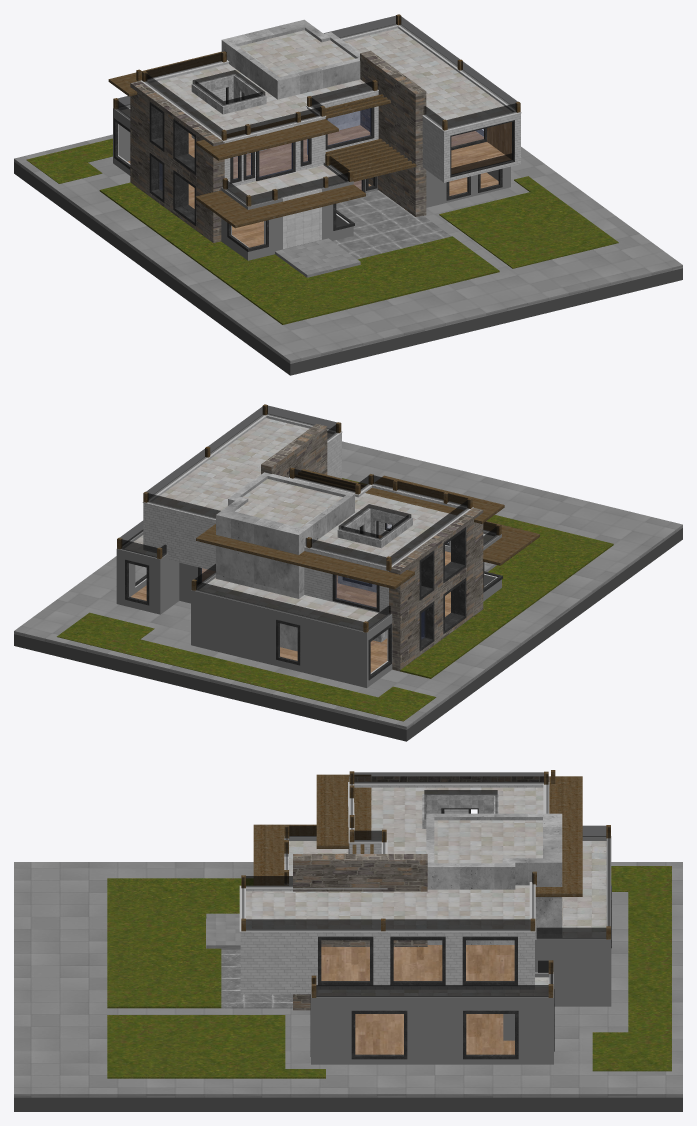
File: home1.glb
3 renders of one model, top to bottom at view 1: azimuth 30°, elevation 25°; view 2: azimuth 150°, elevation 25°; view 3: azimuth 270°, elevation 25°, orthographic. The views are drawn at different scales.
Parts seen in each view (by area): view 1: Line014_04 - Default_0; view 2: Line014_04 - Default_0; view 3: Line014_04 - Default_0.
Part boxes in pixels (box(x1,y1,x2,y2)): Line014_04 - Default_0: box(14, 14, 682, 375); Line014_04 - Default_0: box(14, 404, 682, 741); Line014_04 - Default_0: box(14, 770, 682, 1111).
Size of the model in its own units: 31.4 by 10.6 by 38.27.
Materials: 14 (14 with a texture image).
